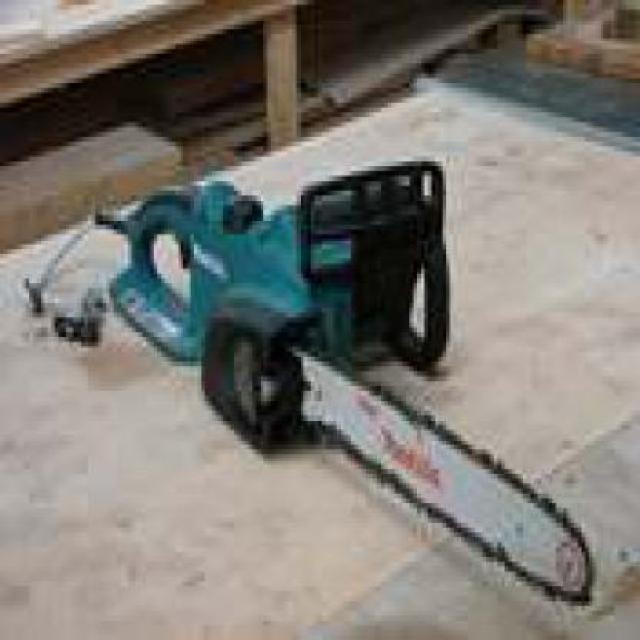Chainsaw: (25, 155, 600, 611)
